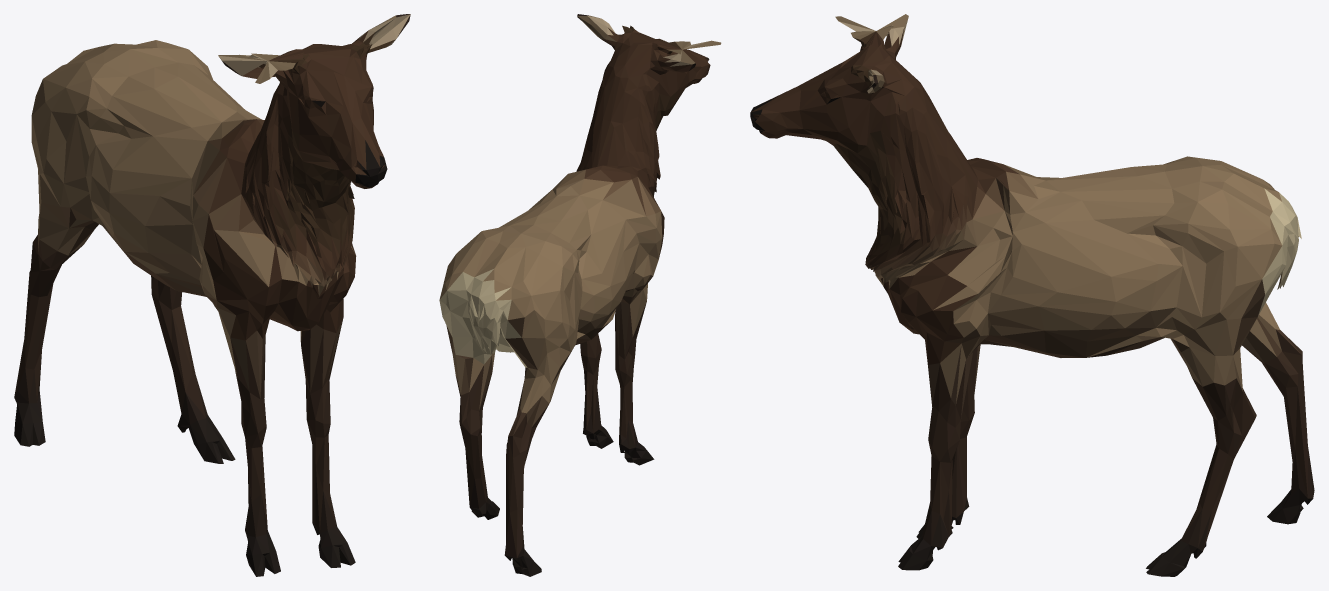
Rendered from elk_cow.glb.
3 renders of one model, left to right at view 1: azimuth 30°, elevation 25°; view 2: azimuth 150°, elevation 25°; view 3: azimuth 270°, elevation 25°, orthographic. The views are drawn at different scales.
Parts seen in each view (by area): view 1: lod0; view 2: lod0; view 3: lod0.
Part boxes in pixels (x1,y1,x2,y2): lod0: [14, 14, 410, 576]; lod0: [439, 14, 721, 576]; lod0: [750, 14, 1314, 576].
Size of what is drawn, in the model's own units: 0.5801 by 1.73 by 1.74.
